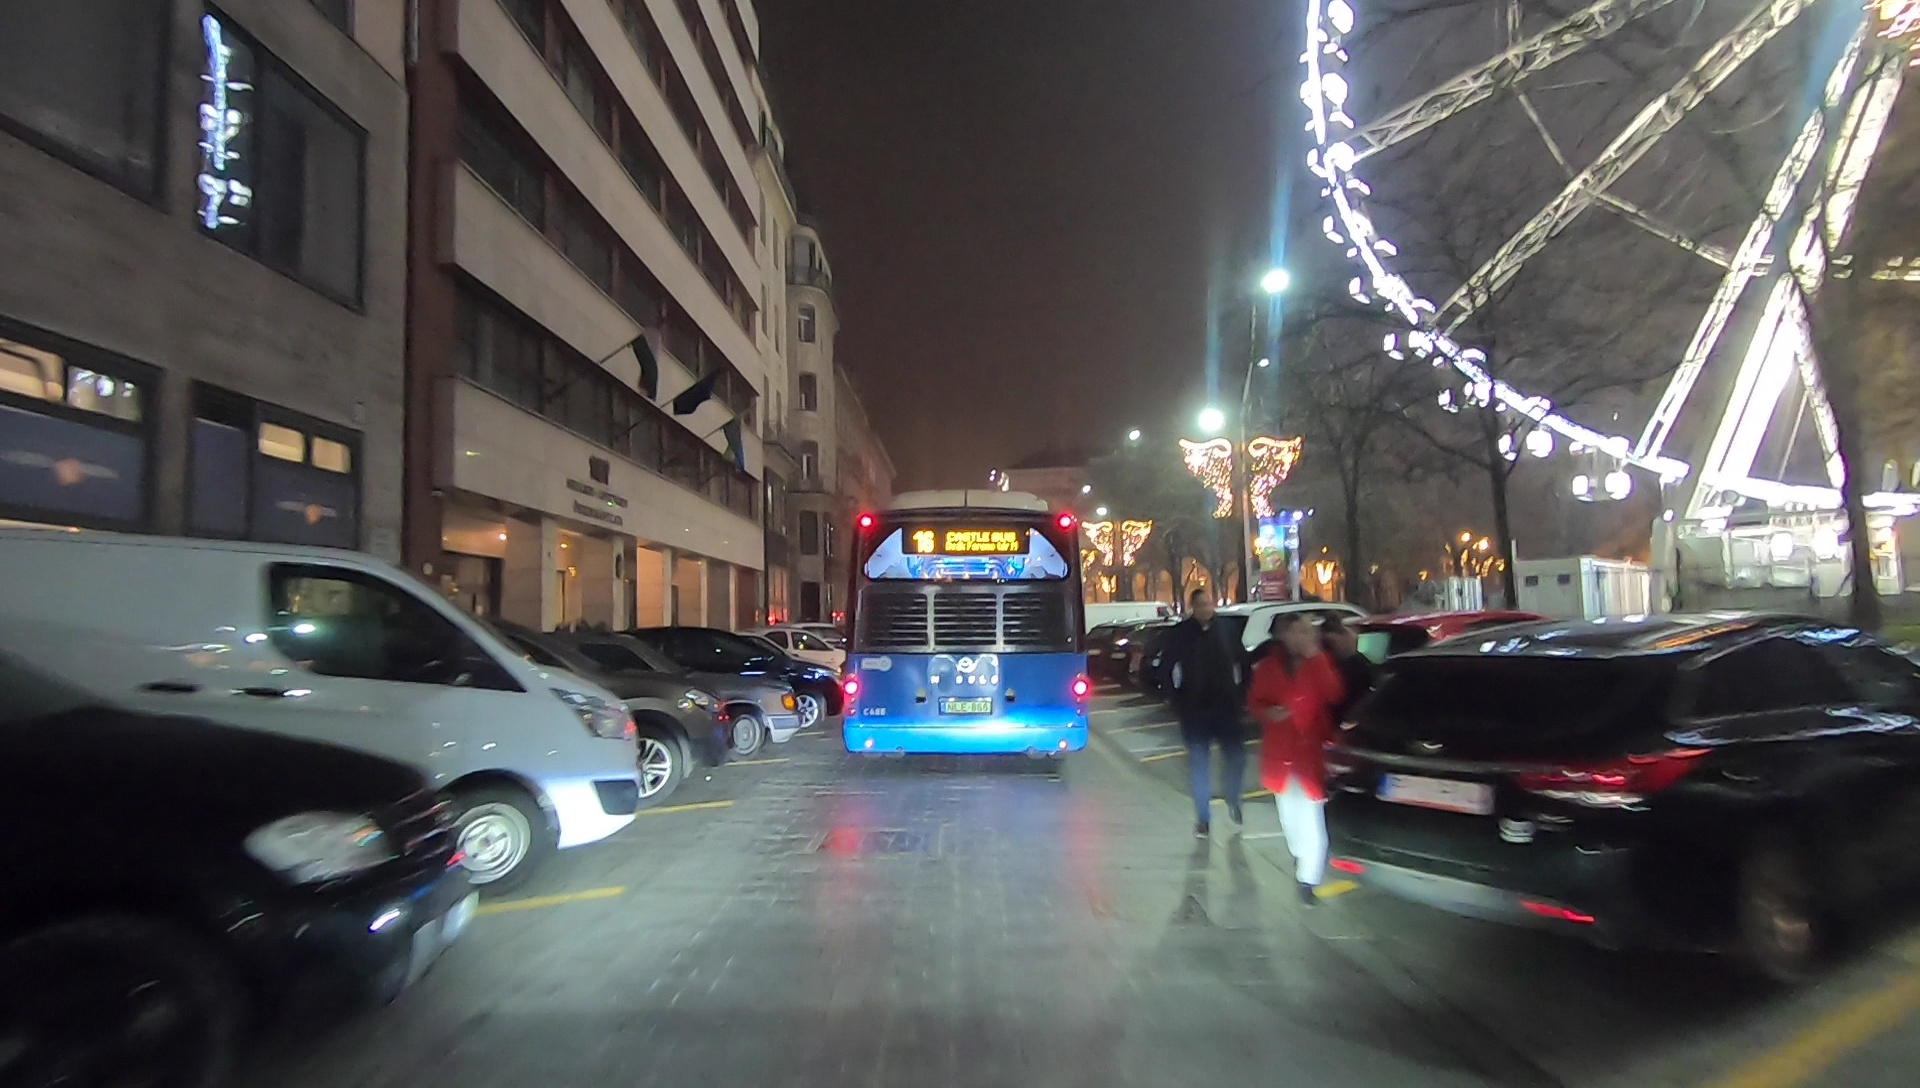person: (1254, 617, 1336, 900), (1173, 589, 1247, 839)
